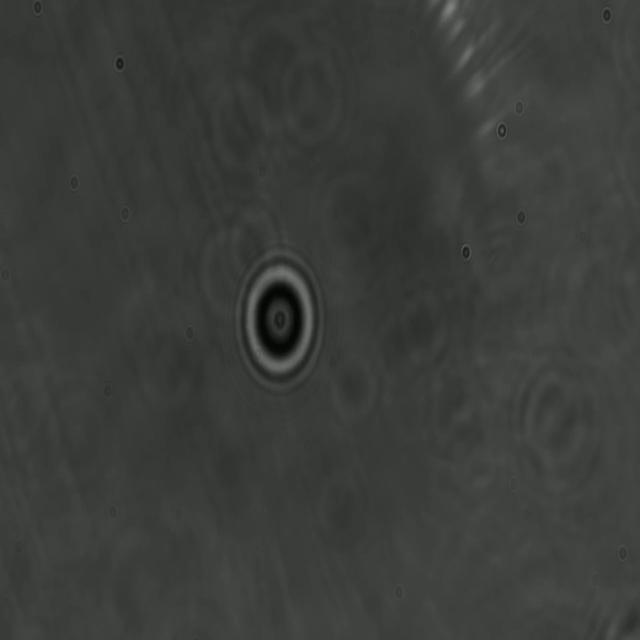LCELL: (233, 244, 329, 398)
